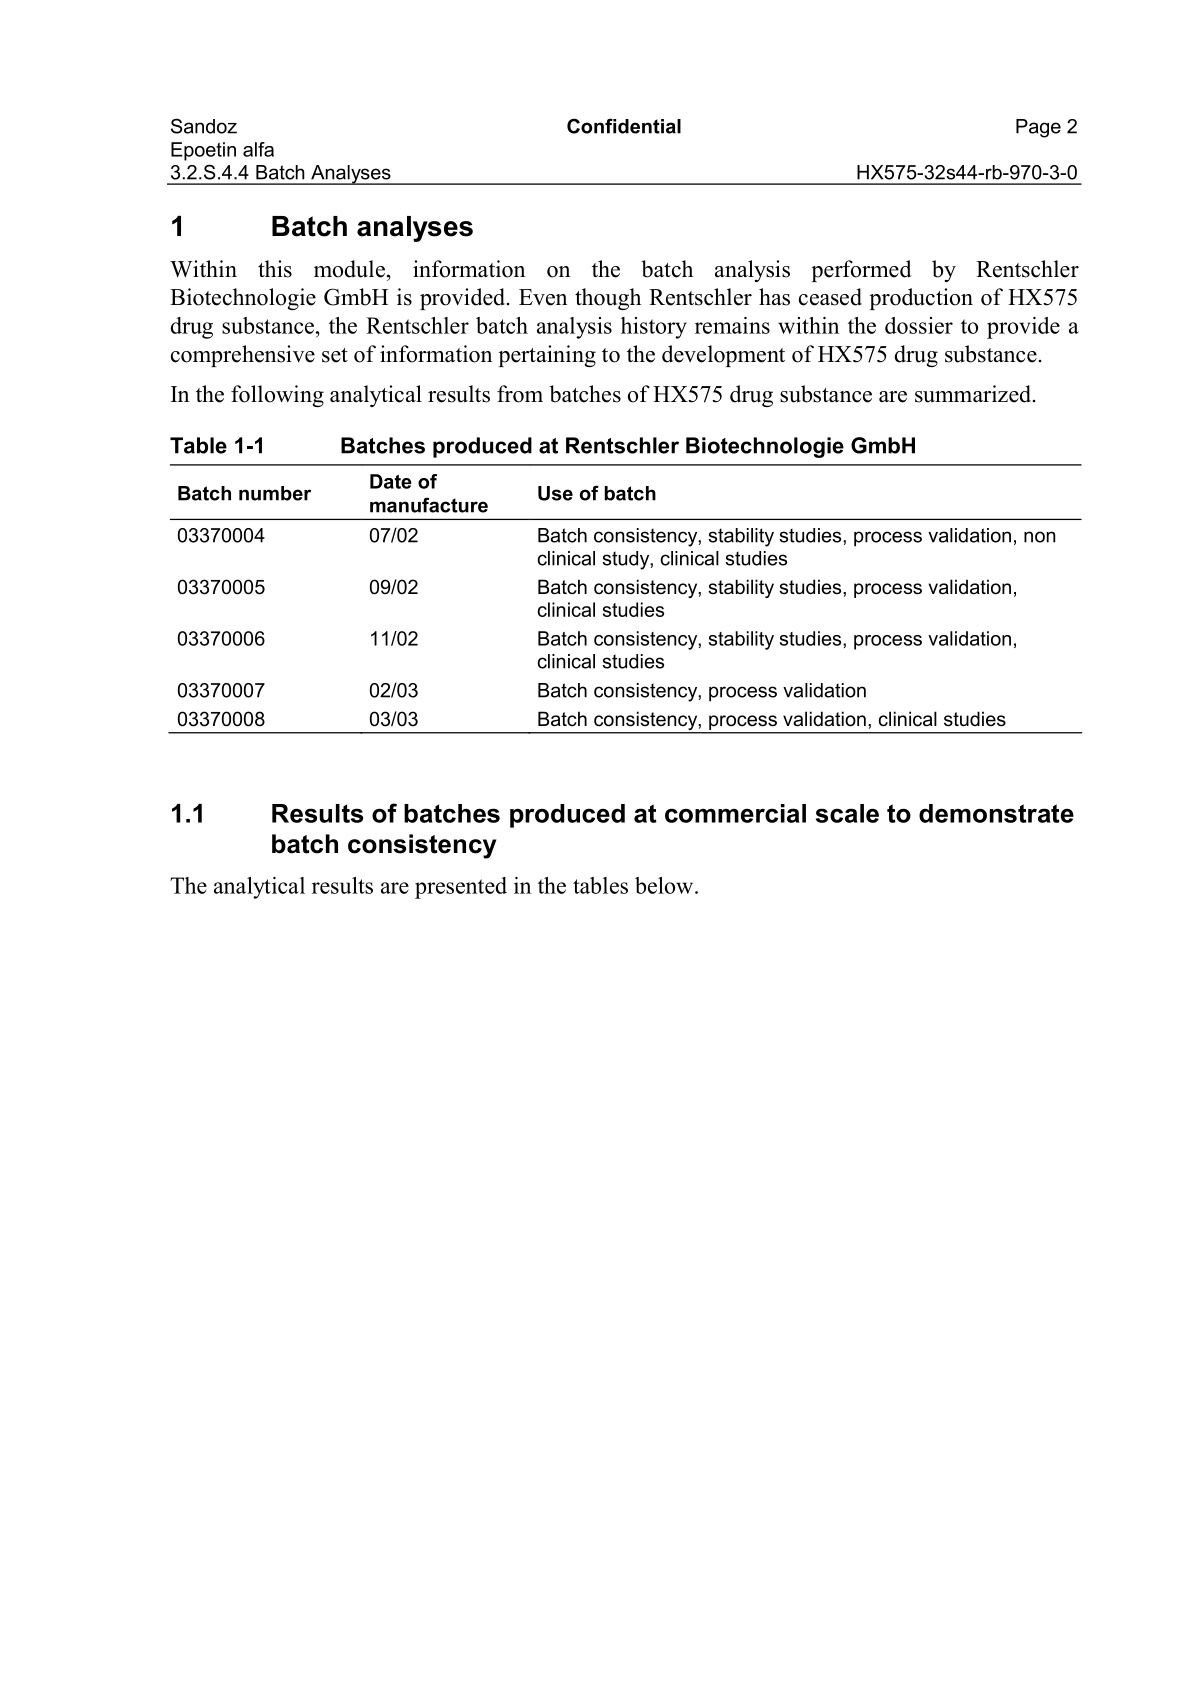partial_lined: (169, 463, 1083, 736)
